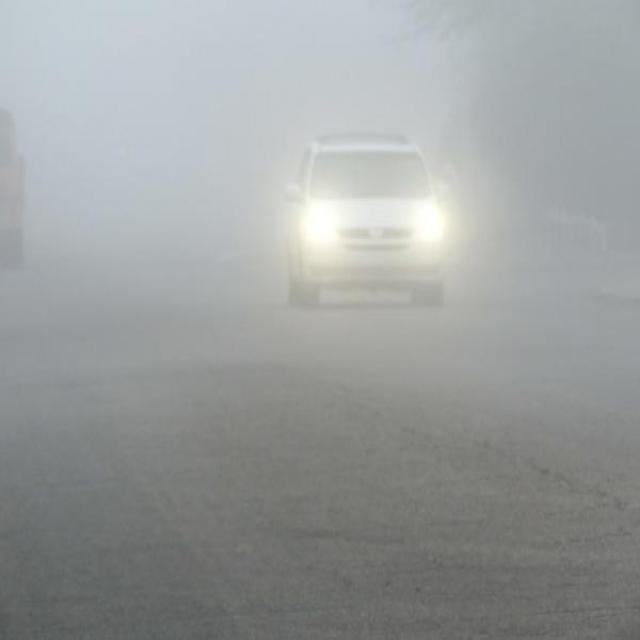Car: (283, 133, 454, 315)
